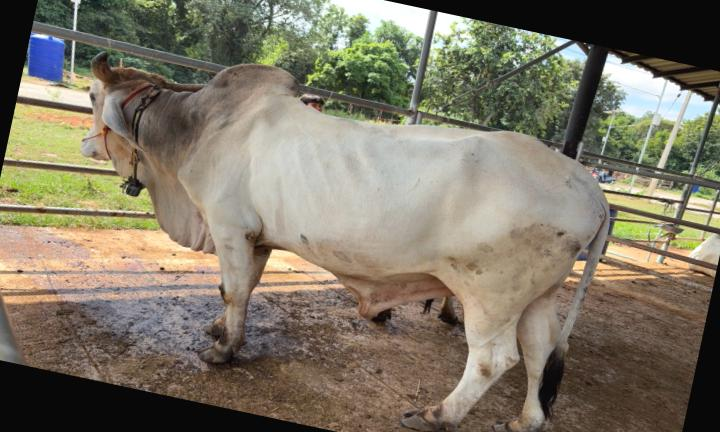Brahman: (82, 53, 609, 432)
